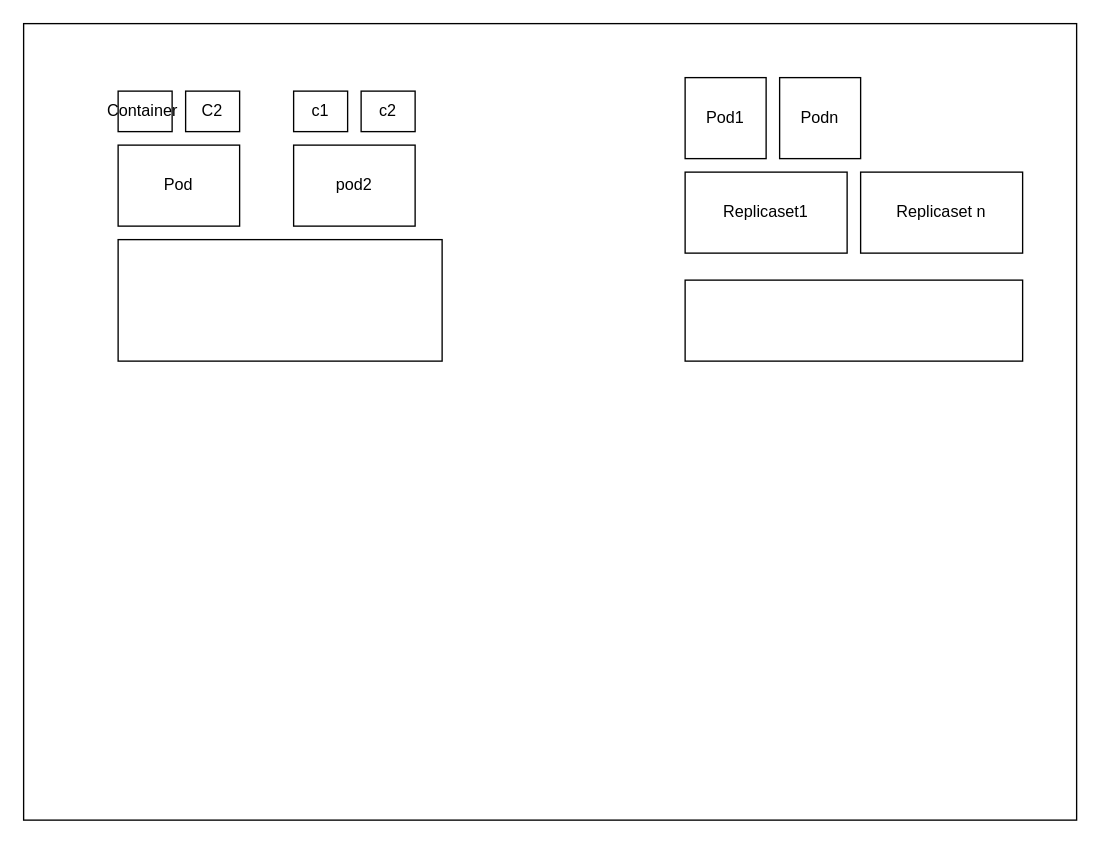
The diagram is 1100 pixels wide and 844 high, and some of its shapes have lost their labels. Here are the shapes that lost their labels. From the top down, the centre of each, then its label:
At (x=279, y=299): "Node".
At (x=853, y=320): "Deployment".
